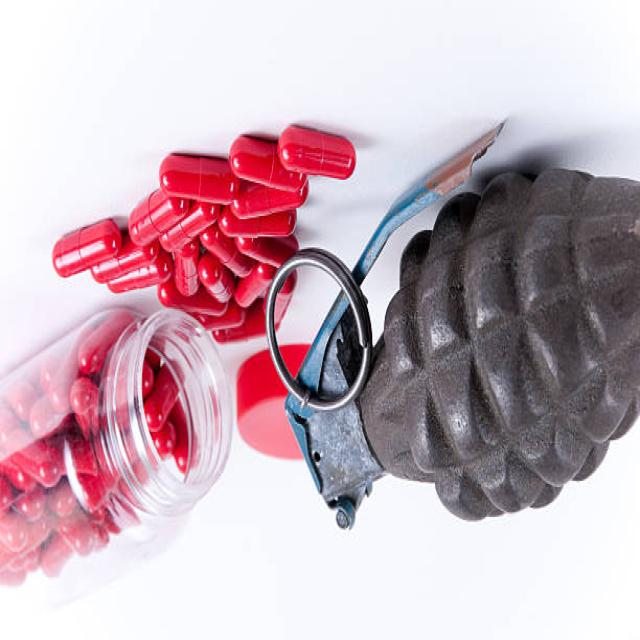grenade: (257, 113, 640, 538)
